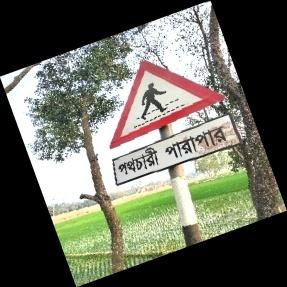Pedestrian-crossing: (108, 58, 240, 189)
